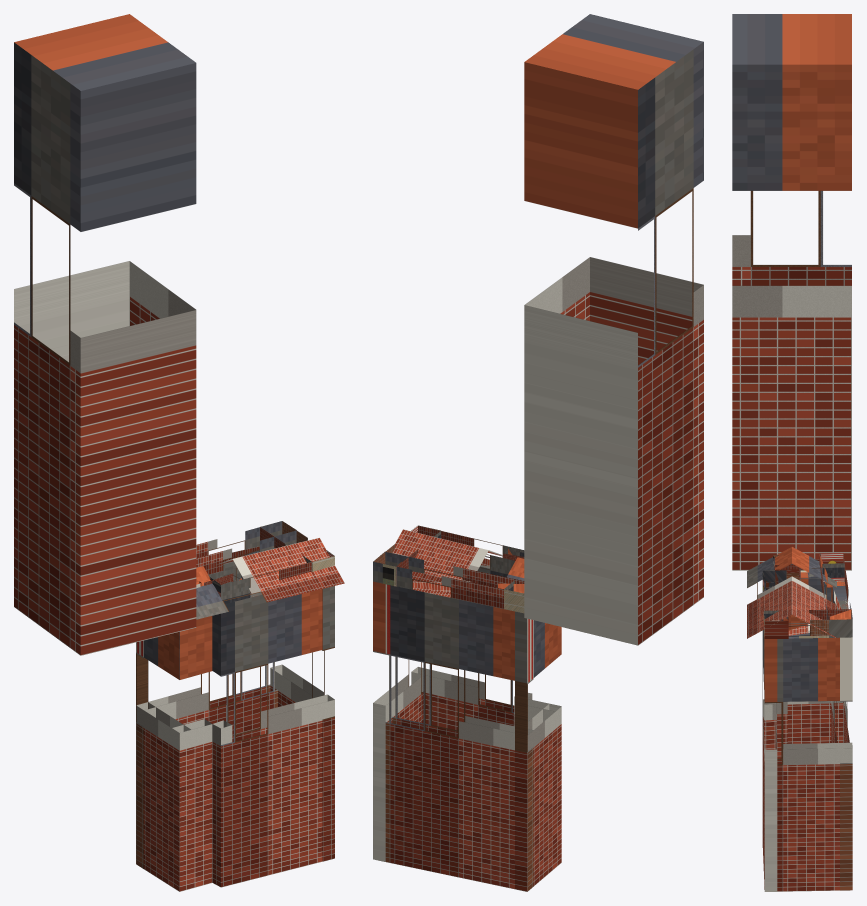
3 views of the same model, side by side, from view 1: azimuth 30°, elevation 25°; view 2: azimuth 150°, elevation 25°; view 3: azimuth 270°, elevation 25° (orthographic). The views are drawn at different scales.
Parts seen in each view (by area): view 1: 1079799219__chimney_0_xb, 1079799219__wall_2_xb, 1079799219__wall_5_xb, 1079799219__wall_0_xb, 1079799219__wall_4_xb, 1079799219_roof_-1_xb, 1079799219__wall_3_xb, 1079799219__wall_1_xb, 1079799219__cornice_4, 1079799219__cornice_2, 1079799219__cornice_3; view 2: 1079799219__chimney_0_xb, 1079799219__wall_4_xb, 1079799219__wall_5_xb, 1079799219__wall_3_xb, 1079799219__wall_2_xb, 1079799219__cornice_4, 1079799219_roof_1_xb, 1079799219__cornice_2; view 3: 1079799219__chimney_0_xb, 1079799219__wall_3_xb, 1079799219__wall_2_xb, 1079799219__wall_4_xb, 1079799219__wall_5_xb, 1079799219_roof_-1_xb, 1079799219_roof_1_xb, 1079799219__cornice_3, 1079799219__cornice_4, 1079799219__cornice_2, 1079799219__cornice_5, 1079799219__wall_1_xb (+1 smaller).
Part boxes in pixels (x1,y1,x2,y2): 1079799219__chimney_0_xb: (14,14,196,655); 1079799219__wall_2_xb: (216,589,334,887); 1079799219__wall_5_xb: (136,632,190,891); 1079799219__wall_0_xb: (172,616,212,891); 1079799219__wall_4_xb: (136,550,277,868); 1079799219_roof_-1_xb: (196,537,344,619); 1079799219__wall_3_xb: (270,586,334,861); 1079799219__wall_1_xb: (212,613,232,887); 1079799219__cornice_4: (196,521,296,574); 1079799219__cornice_2: (208,550,329,603); 1079799219__cornice_3: (260,521,334,571); 1079799219__chimney_0_xb: (524,14,703,645); 1079799219__wall_4_xb: (373,584,533,891); 1079799219__wall_5_xb: (515,611,561,891); 1079799219__wall_3_xb: (373,581,423,861); 1079799219__wall_2_xb: (411,565,514,730); 1079799219__cornice_4: (373,552,524,608); 1079799219_roof_1_xb: (392,529,524,582); 1079799219__cornice_2: (411,525,523,577); 1079799219__chimney_0_xb: (732,14,851,570); 1079799219__wall_3_xb: (764,633,852,891); 1079799219__wall_2_xb: (762,588,777,891); 1079799219__wall_4_xb: (831,581,852,890); 1079799219__wall_5_xb: (787,572,843,743); 1079799219_roof_-1_xb: (747,547,791,638); 1079799219_roof_1_xb: (792,547,836,638); 1079799219__cornice_3: (763,609,852,638); 1079799219__cornice_4: (819,553,852,637); 1079799219__cornice_2: (762,570,788,638); 1079799219__cornice_5: (773,553,844,581); 1079799219__wall_1_xb: (763,699,776,749).
Size of the model in its own units: 0.3532 by 1.05 by 0.1512.
1 material, 1 textured.
